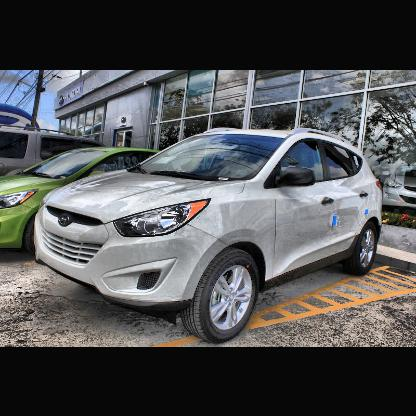Hyundai Tucson SUV 2012: (34, 128, 384, 345)
